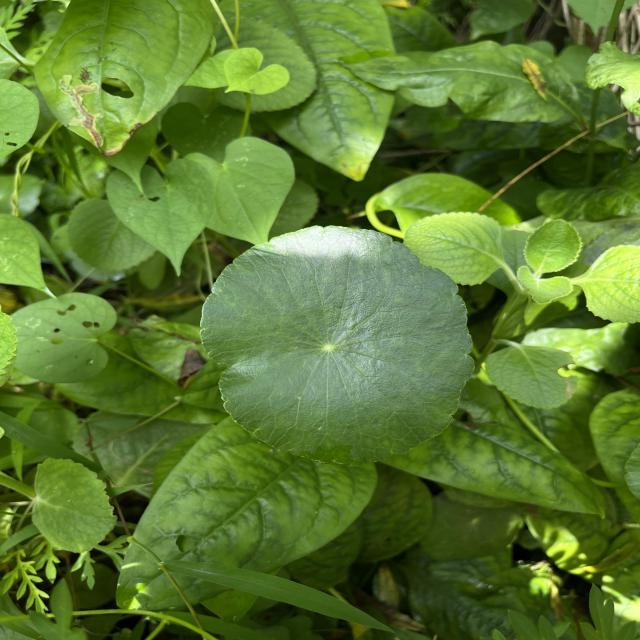Bacopa monnieri: (196, 223, 478, 468)
